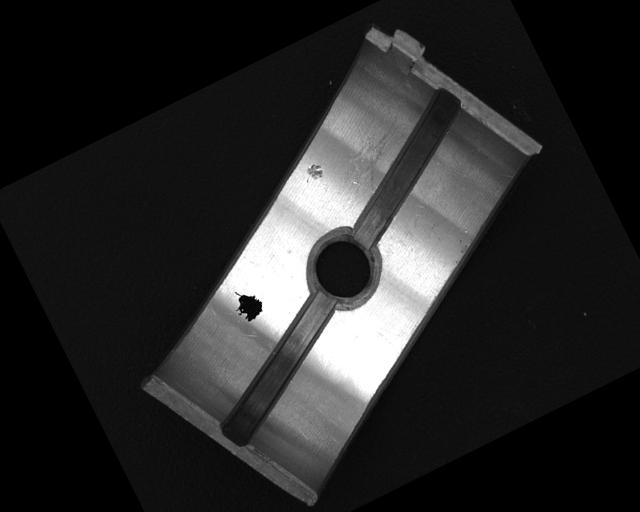blot: (227, 282, 269, 327)
bruise: (300, 160, 326, 185)
gap: (315, 84, 500, 251), (188, 289, 367, 449)
hole: (297, 222, 390, 316)
scratch: (336, 114, 426, 199)
